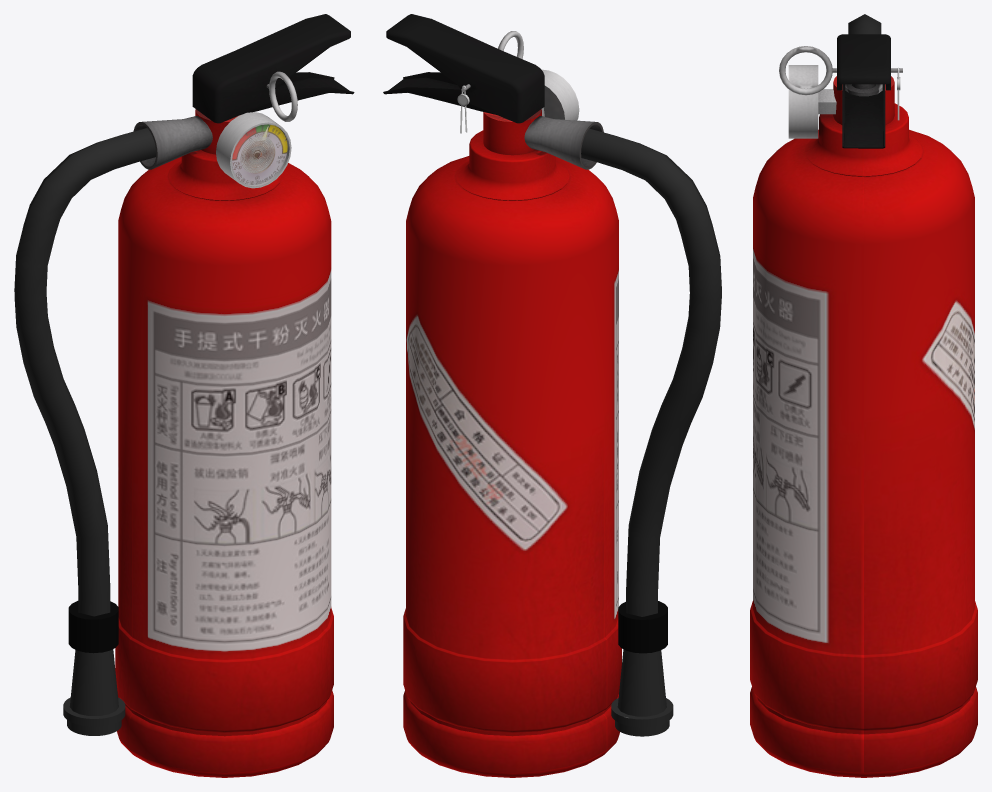
The model's file is miehuoqi_01.FBX.
3 renders of one model, left to right at view 1: azimuth 30°, elevation 25°; view 2: azimuth 150°, elevation 25°; view 3: azimuth 270°, elevation 25°, orthographic. The views are drawn at different scales.
Parts seen in each view (by area): view 1: miehuoqi_01; view 2: miehuoqi_01; view 3: miehuoqi_01.
Part boxes in pixels (x1,y1,x2,y2): miehuoqi_01: (14, 14, 354, 777); miehuoqi_01: (383, 14, 721, 777); miehuoqi_01: (750, 14, 977, 777).
Bounding box in the file's own units: 26.76 × 53.33 × 15.4.
1 material, 1 textured.
